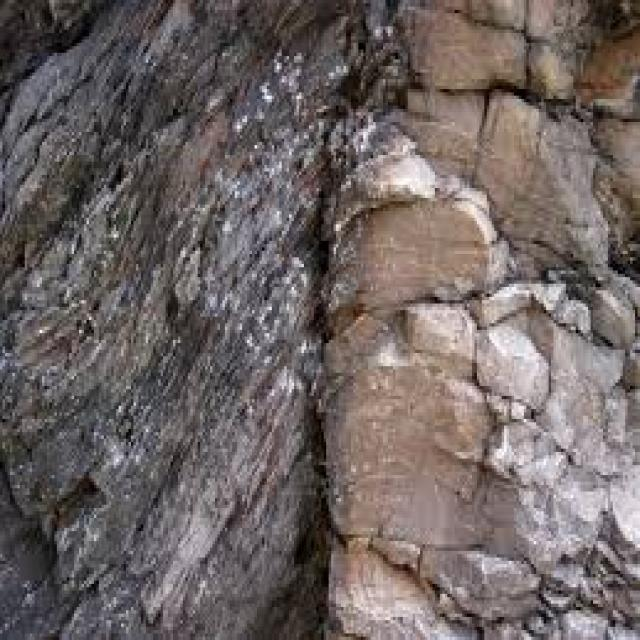Metamorphic: (2, 10, 640, 637)
